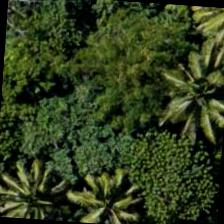Kelapa_Sawit: (62, 159, 157, 223), (0, 149, 77, 222), (166, 47, 223, 142)
